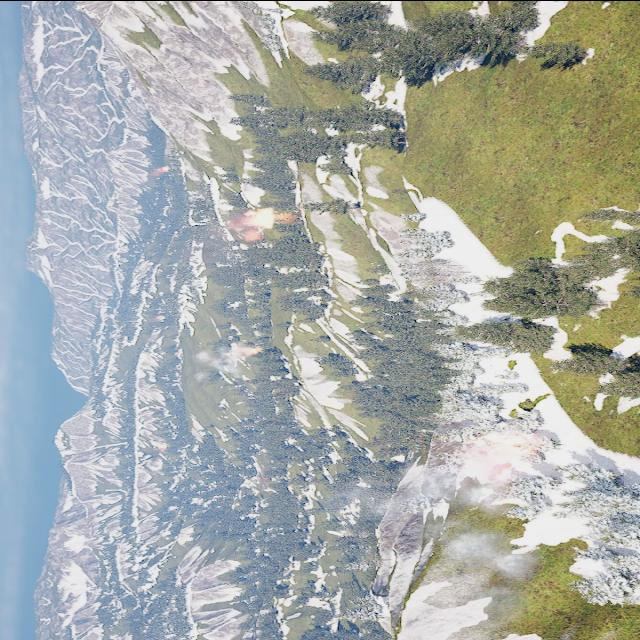fire: (486, 438, 534, 466), (246, 208, 276, 228), (245, 346, 262, 354), (157, 166, 171, 173), (158, 442, 169, 450), (157, 314, 168, 320)
smoke: (373, 436, 638, 634), (192, 342, 250, 372), (208, 218, 252, 246)
